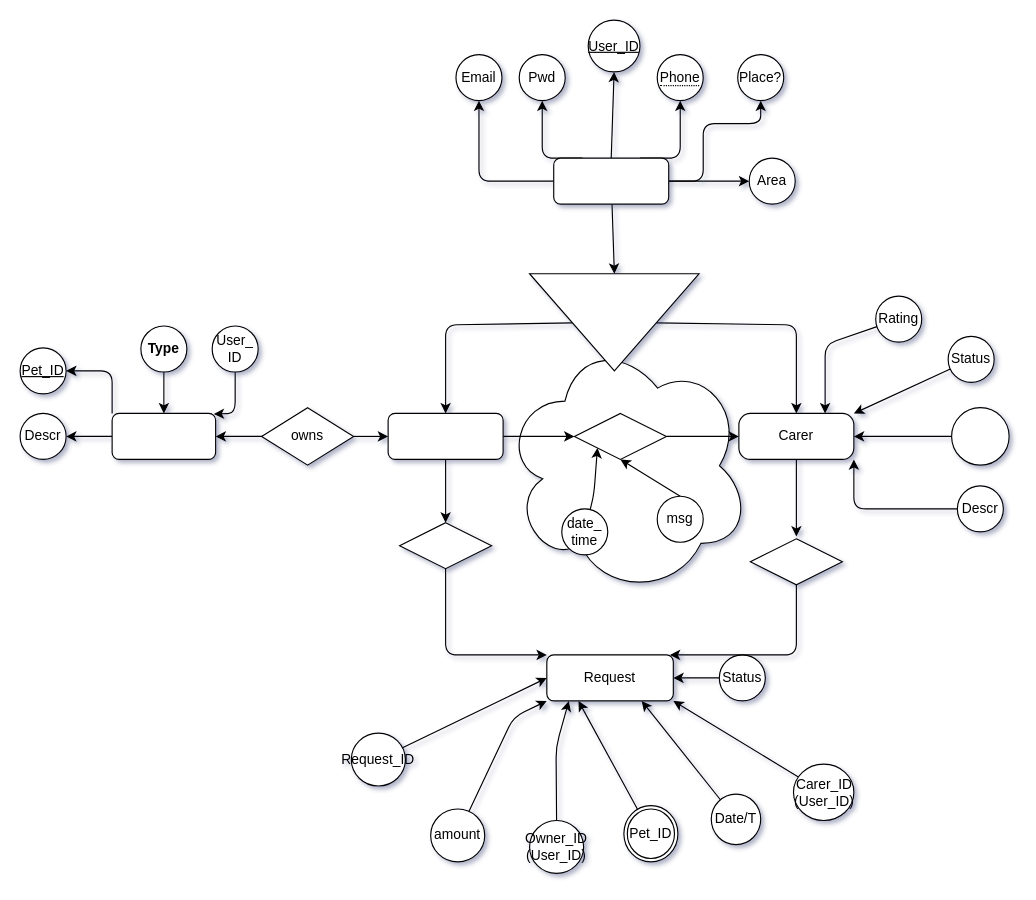
This 1036x900 diagram has some shape labels left out. Here are the shapes that lost their labels. From the top down, the box of each, then its label:
(553, 157, 669, 204): User
(111, 412, 216, 459): Pet
(387, 412, 503, 459): Owner
(573, 412, 666, 459): chat
(950, 407, 1009, 465): ID_Doc
(398, 522, 492, 569): sends
(749, 538, 842, 585): acc/dec
